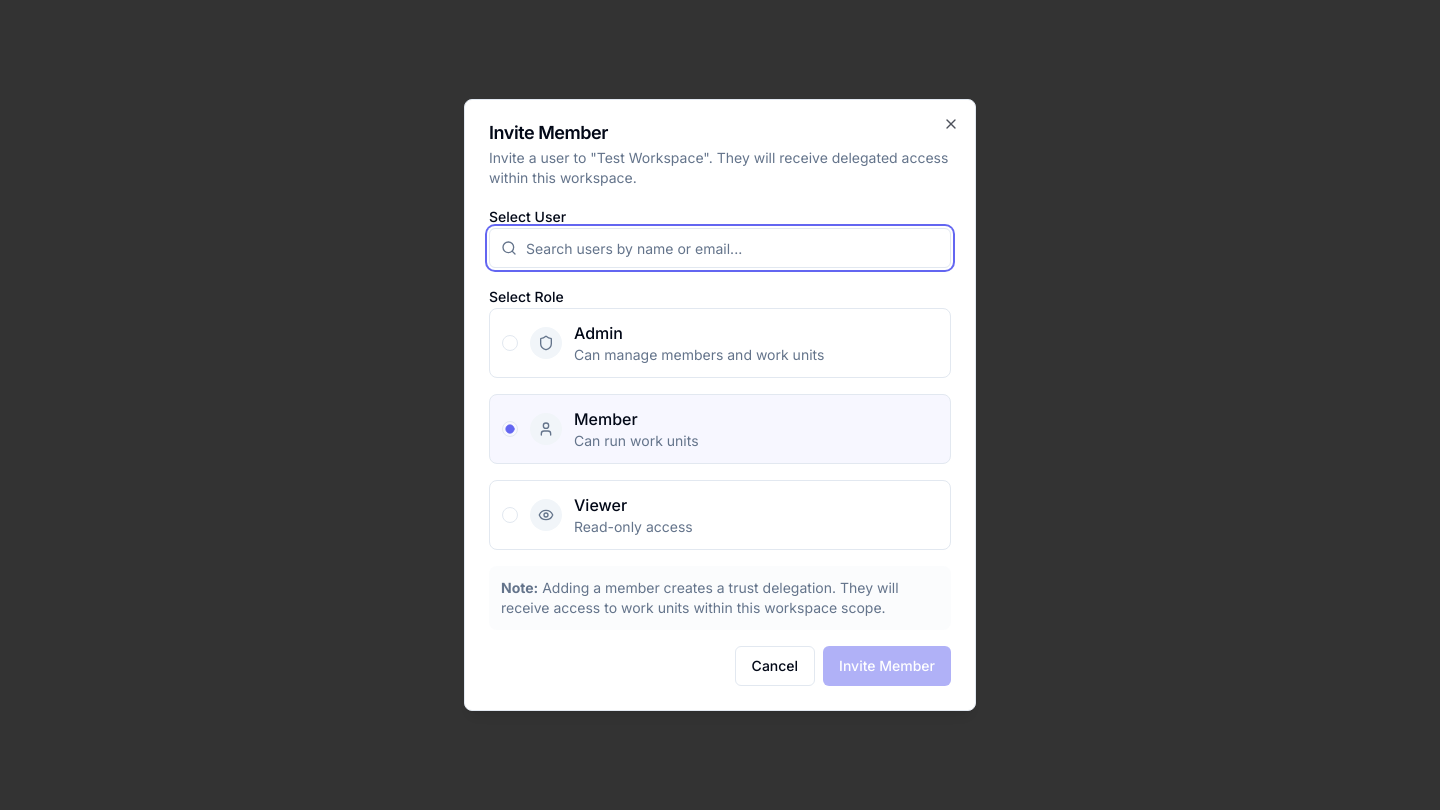
Test: InviteMemberDialog › user search › should show "No users found" when search returns empty
Type "nonexistent" into the field with placeholder "Search users by name or email..." at (720, 248), box [489, 228, 951, 268]
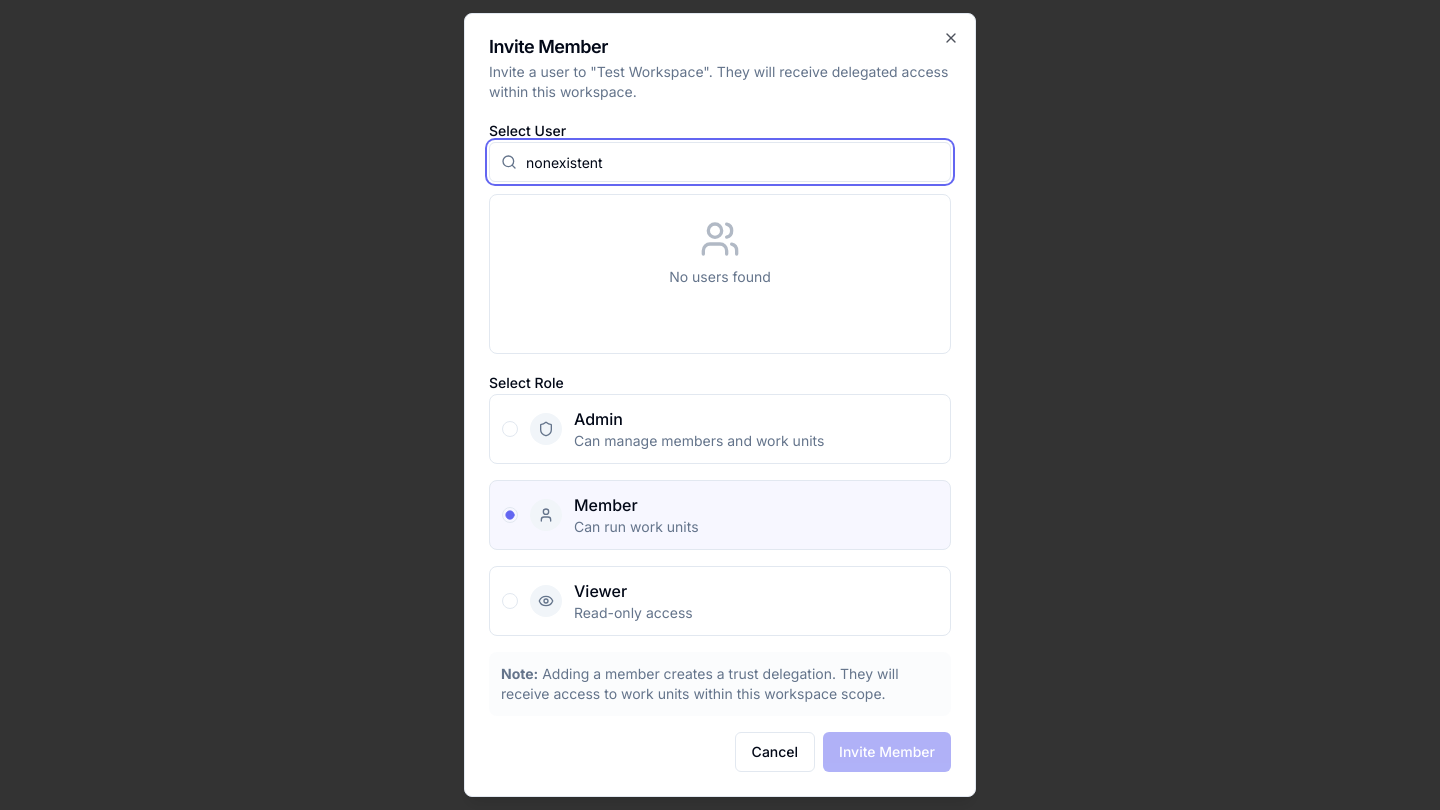
Result: the text "No users found" is shown at [669, 267, 771, 287]
